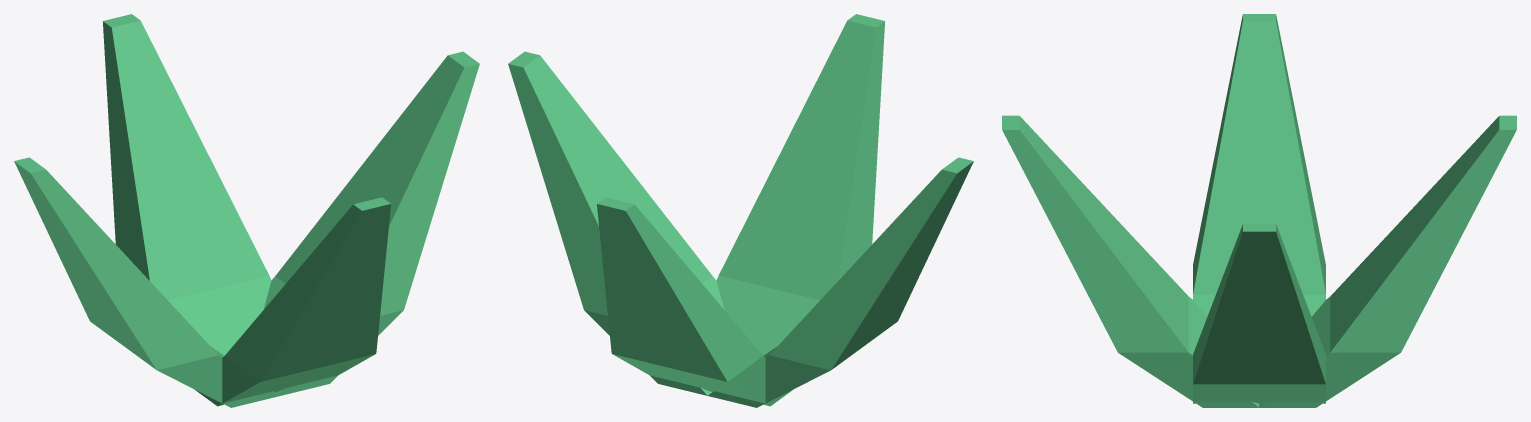
Rendered from background_plant_a.gltf.
3 views of the same model, side by side, from view 1: azimuth 30°, elevation 25°; view 2: azimuth 150°, elevation 25°; view 3: azimuth 270°, elevation 25° (orthographic).
Parts seen in each view (by area): view 1: background_plant_a; view 2: background_plant_a; view 3: background_plant_a.
Part boxes in pixels (left/top/right/bottom): background_plant_a: left=14, top=14, right=479, bottom=407; background_plant_a: left=508, top=14, right=973, bottom=407; background_plant_a: left=1002, top=14, right=1516, bottom=407.
Bounding box in the file's own units: 0.363 × 0.2 × 0.363.
1 material, 1 textured.
